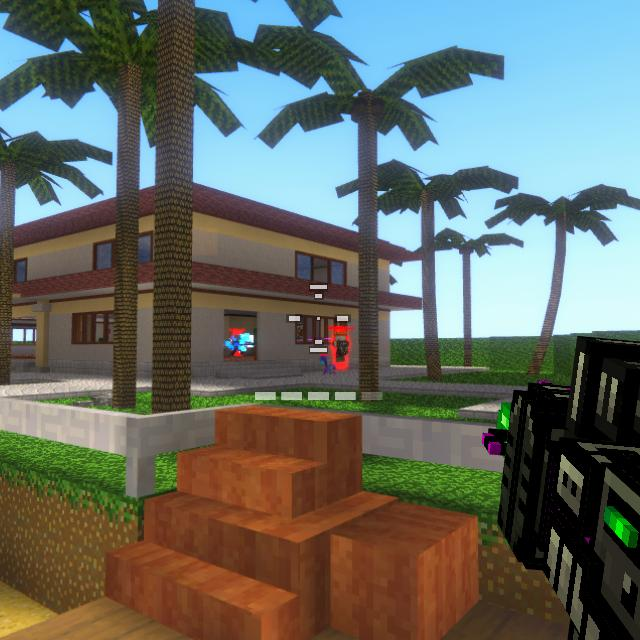Enemy: (332, 332, 350, 363)
